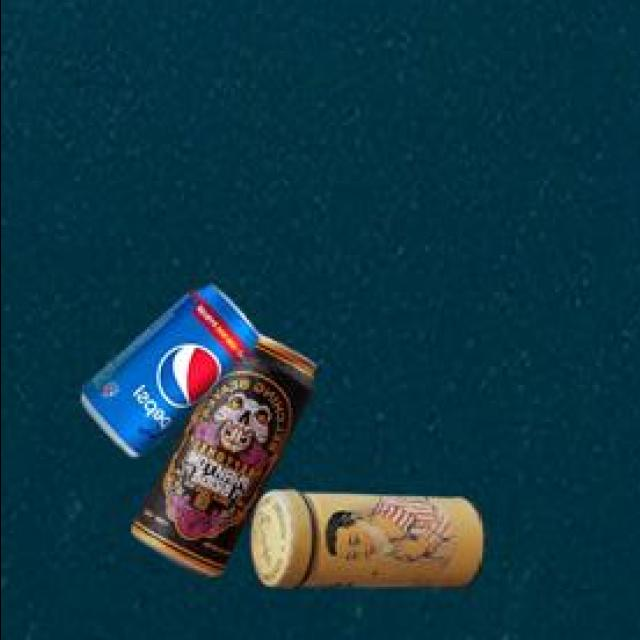logam: (129, 330, 312, 574), (78, 282, 254, 453), (247, 486, 481, 586)
